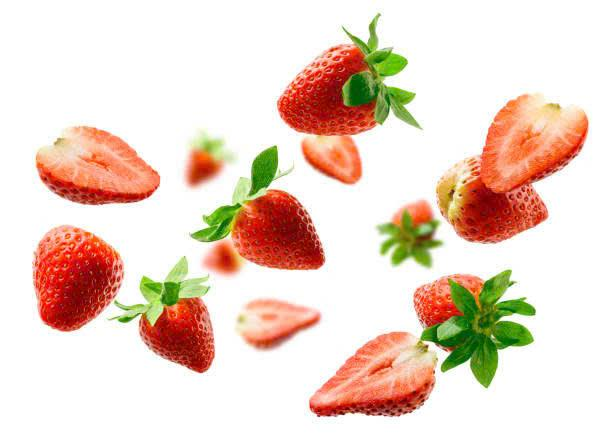strawberry: (273, 3, 427, 140), (11, 103, 185, 209), (393, 267, 584, 356), (217, 151, 331, 284), (476, 80, 588, 202), (20, 220, 134, 334), (301, 337, 460, 414), (429, 149, 530, 264), (137, 276, 229, 392)
